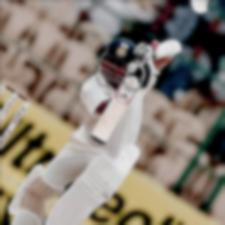batsman: (0, 24, 216, 224)
